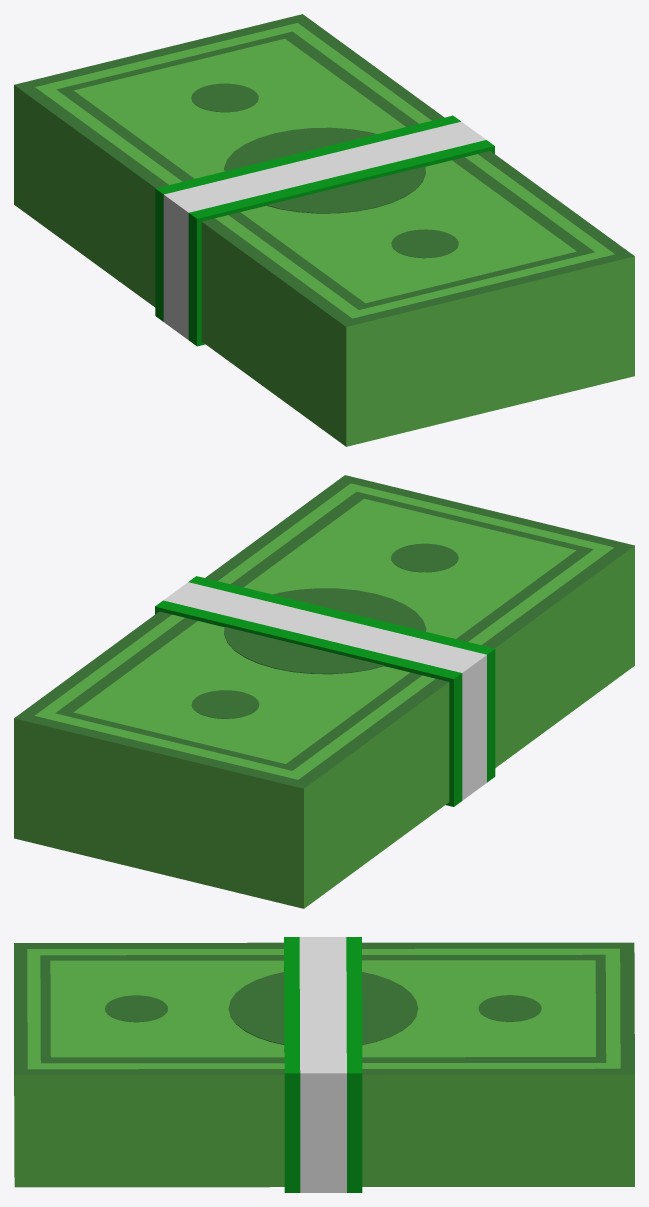
File: money.fbx
3 views of the same model, one above another, from view 1: azimuth 30°, elevation 25°; view 2: azimuth 150°, elevation 25°; view 3: azimuth 270°, elevation 25° (orthographic). The views are drawn at different scales.
Visible parts, largest first — view 1: Money; view 2: Money; view 3: Money.
Part boxes in pixels (x1,y1,x2,y2): Money: (14,14,634,446); Money: (14,475,634,908); Money: (14,937,634,1192).
Bounding box in the file's own units: 21.83 × 8.93 × 42.04.
1 material, 1 textured.
